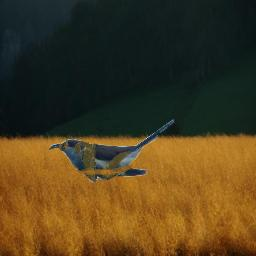Cuckoo: (49, 119, 178, 183)
